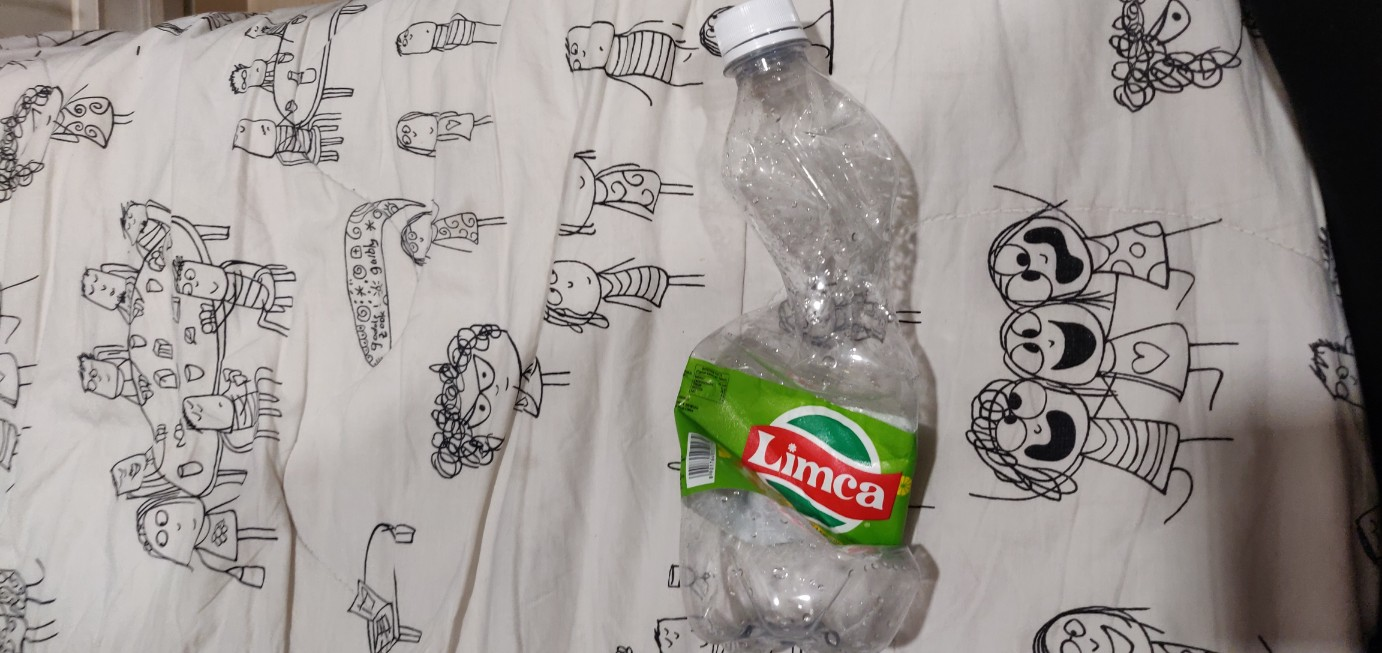Electronics: (658, 2, 974, 649)
